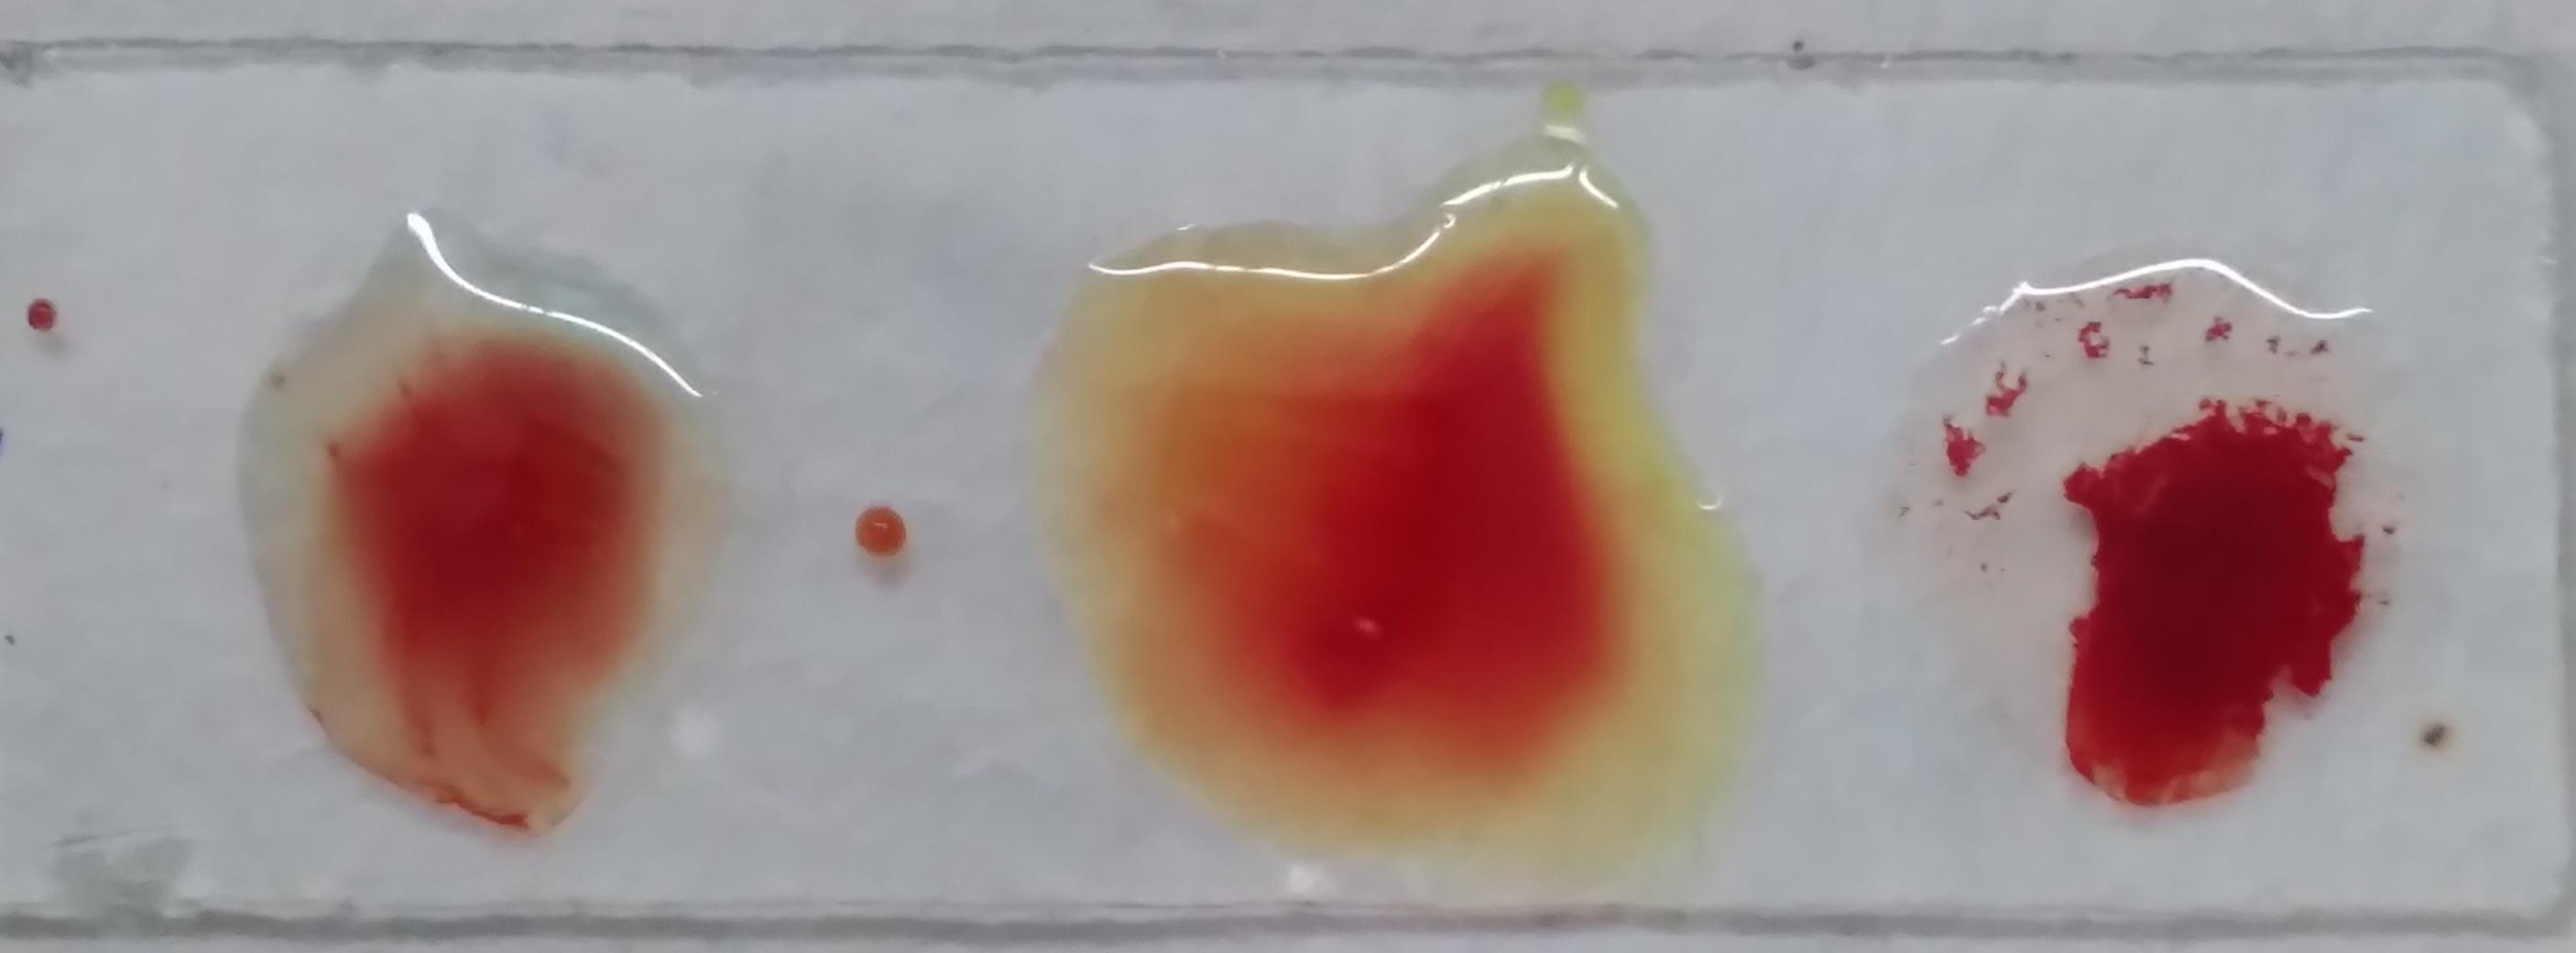D: (158, 131, 651, 693)
